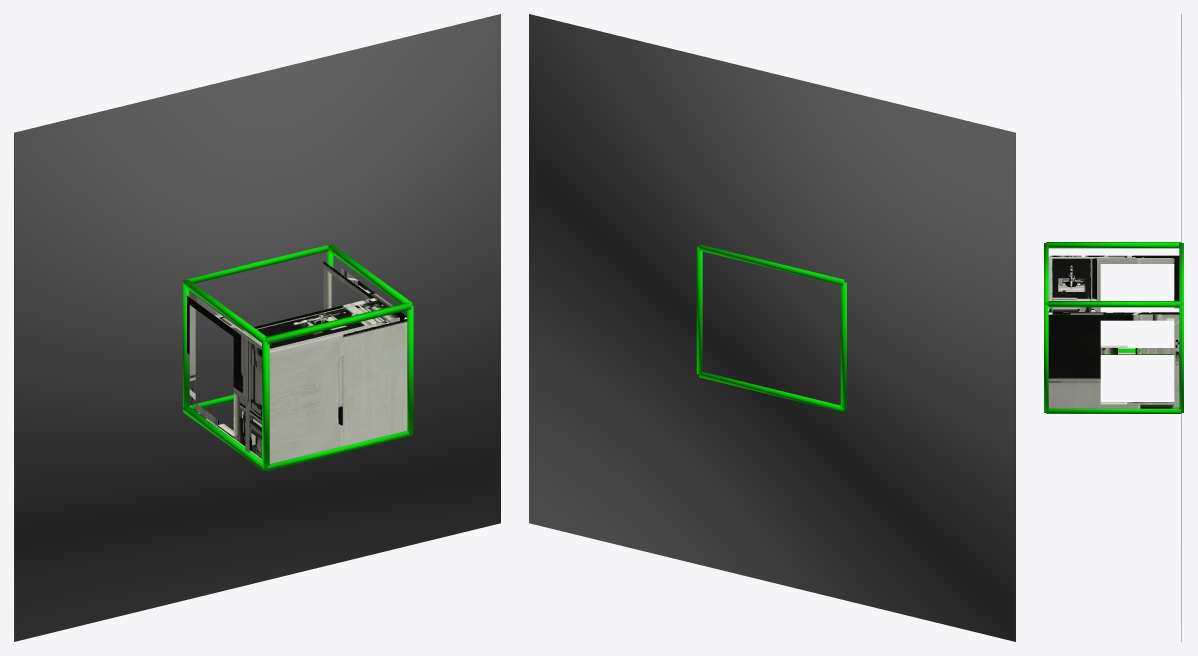
The picture shows the model from 3 angles, left to right: view 1: azimuth 30°, elevation 25°; view 2: azimuth 150°, elevation 25°; view 3: azimuth 270°, elevation 25°; orthographic projection. The views are drawn at different scales.
Bounding box in the file's own units: 2 × 2 × 0.5921.
